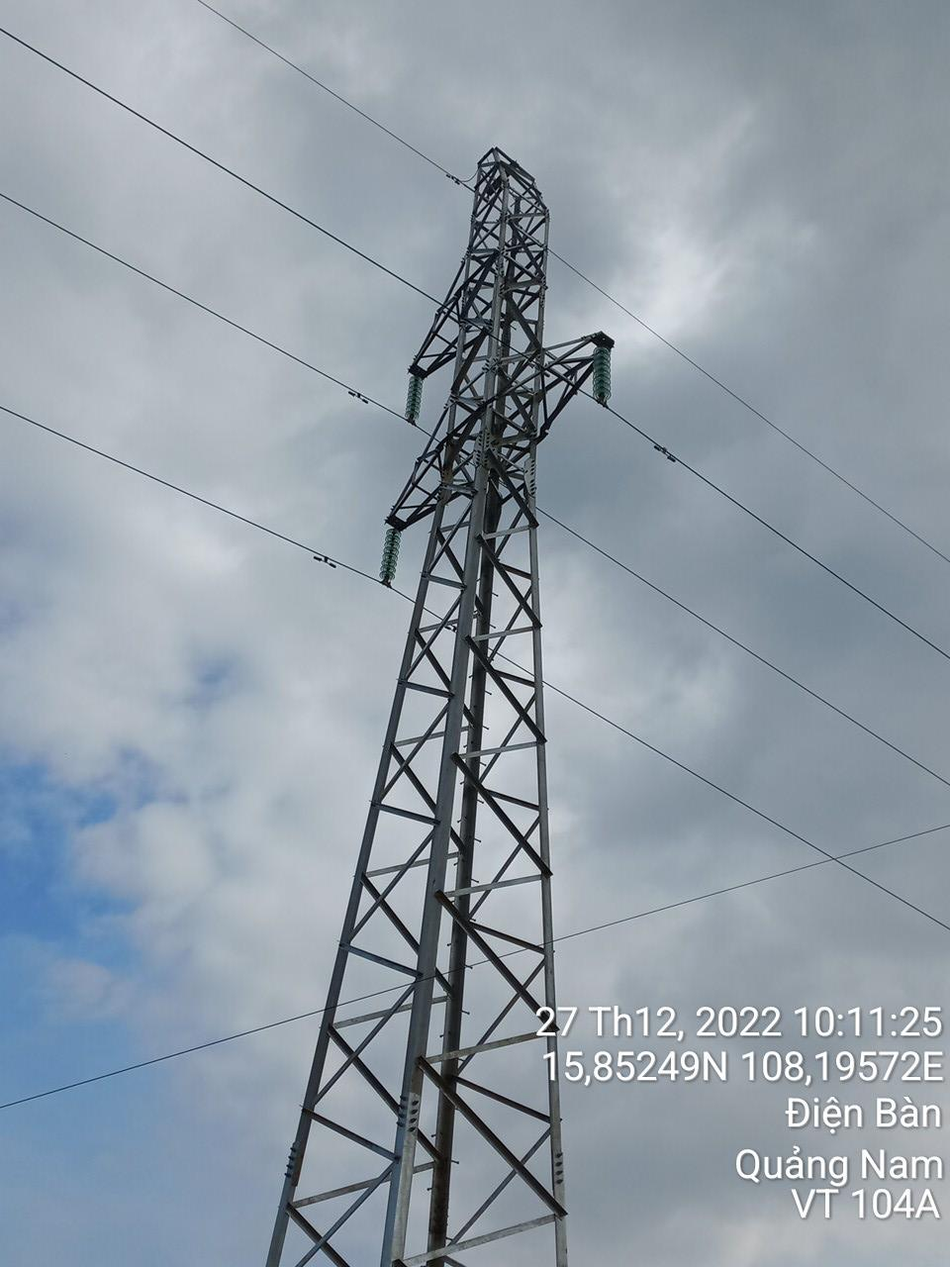power_tower: (299, 119, 578, 1267)
